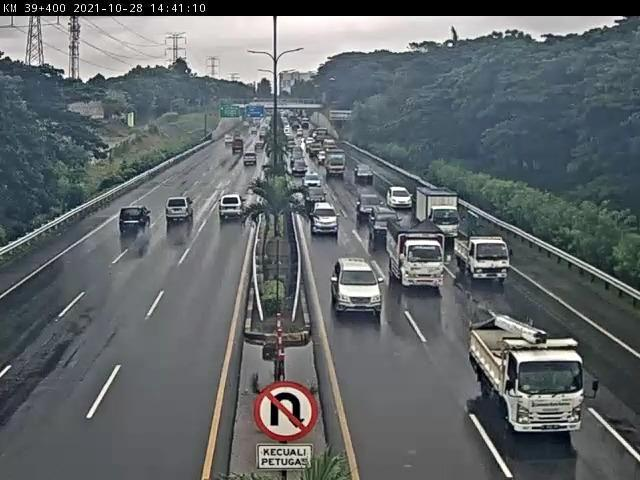car: (332, 258, 384, 317), (367, 206, 401, 241), (309, 201, 341, 234), (356, 193, 386, 221), (387, 188, 415, 211)
truck: (471, 317, 585, 431), (388, 216, 447, 290), (453, 231, 510, 284), (416, 188, 462, 239), (119, 205, 155, 237), (163, 196, 196, 226), (217, 194, 247, 225)
